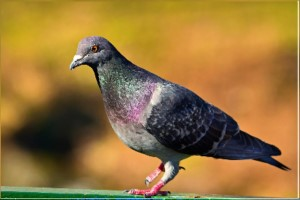pigeon: (68, 34, 292, 197)
